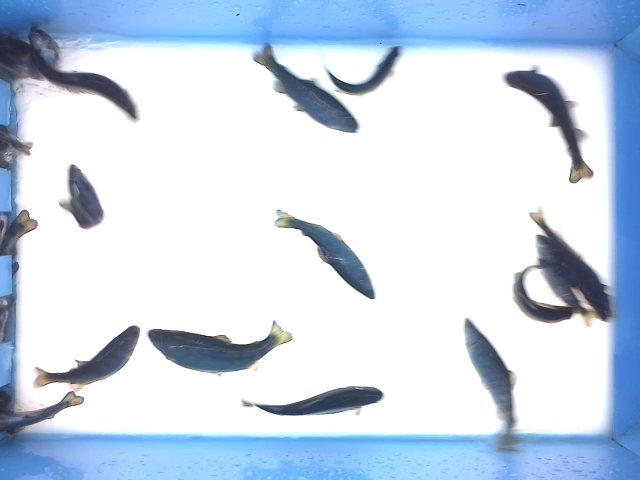fish: (26, 23, 143, 124), (500, 62, 596, 185), (527, 203, 616, 325), (248, 40, 360, 135), (273, 206, 378, 302), (146, 318, 295, 380), (461, 316, 523, 455), (33, 323, 142, 395), (533, 234, 602, 329), (239, 384, 386, 421), (317, 44, 406, 98), (506, 260, 577, 324), (53, 158, 105, 232)
